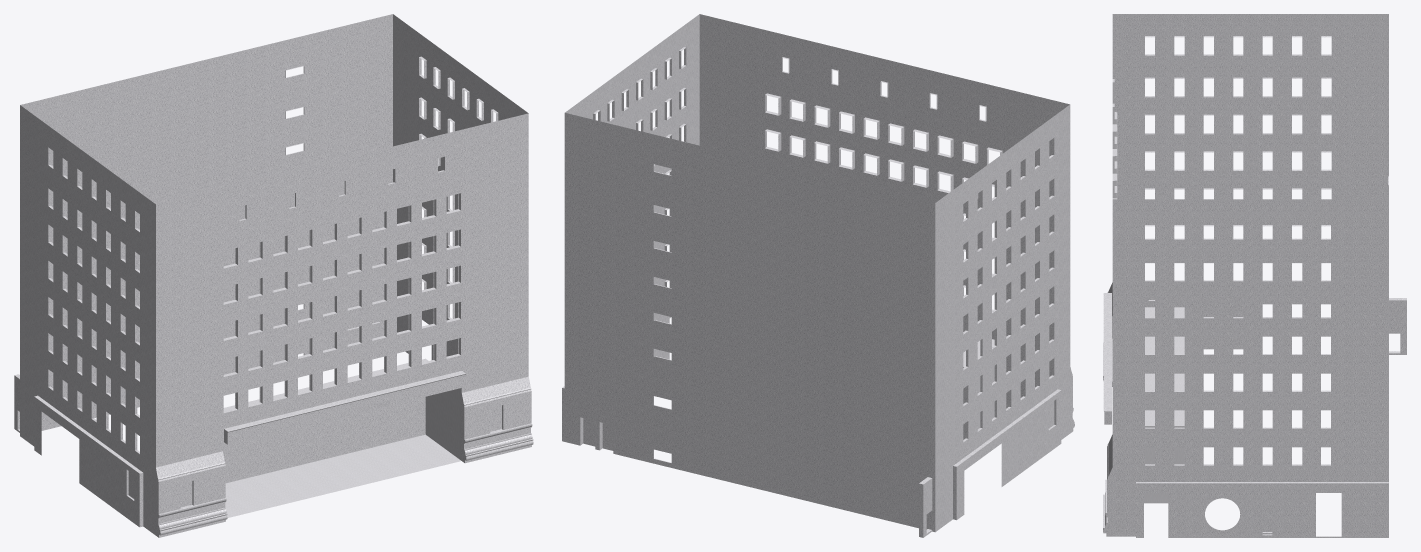
Rendered from nihonbashiRT.obj.
3 renders of one model, left to right at view 1: azimuth 30°, elevation 25°; view 2: azimuth 150°, elevation 25°; view 3: azimuth 270°, elevation 25°, orthographic. The views are drawn at different scales.
Parts seen in each view (by area): view 1: NBLD_137; view 2: NBLD_137; view 3: NBLD_137.
Part boxes in pixels (box(x1,y1,x2,y2)): NBLD_137: box(14, 14, 533, 537); NBLD_137: box(562, 14, 1074, 537); NBLD_137: box(1103, 14, 1406, 537).
Size of the model in its own units: 41.7 by 34.8 by 28.42.
1 material, 1 textured.
